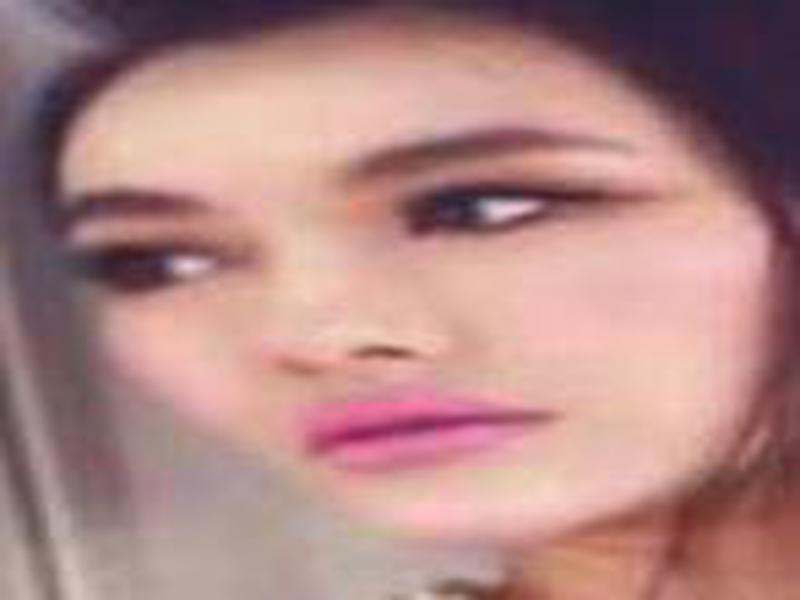without_mask: (48, 103, 778, 549)
